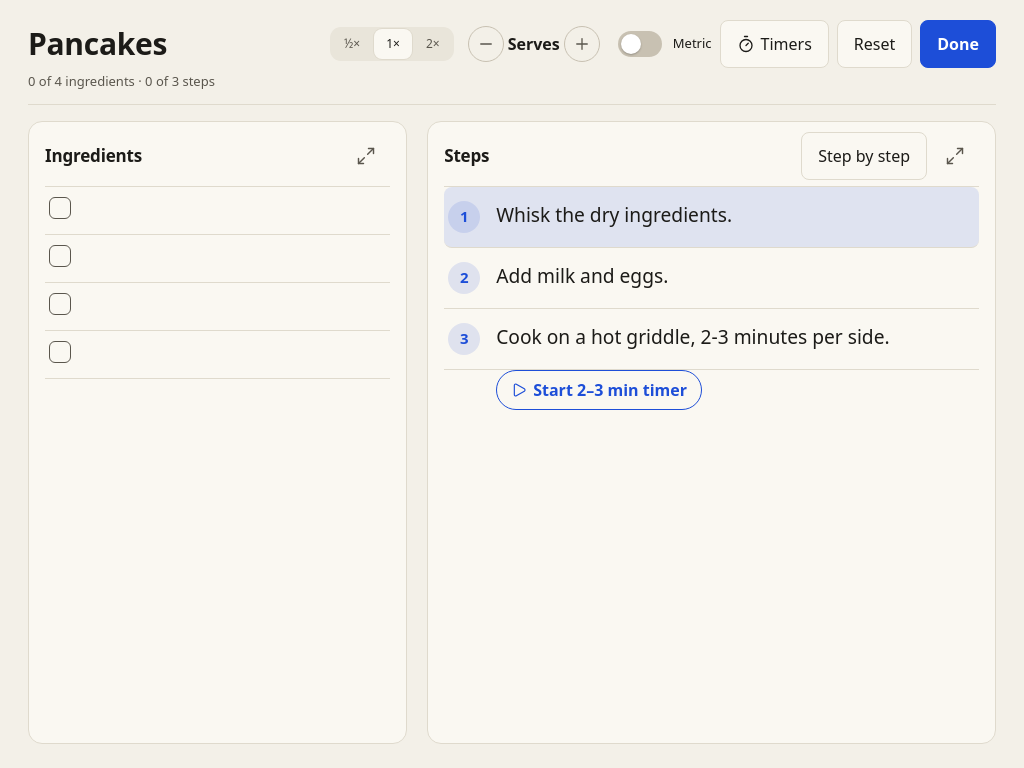
CookingView › clears its paused step timers when you finish
Click the button "Start 2–3 min timer" at (599, 390), box x1=496 y1=370 x2=702 y2=410
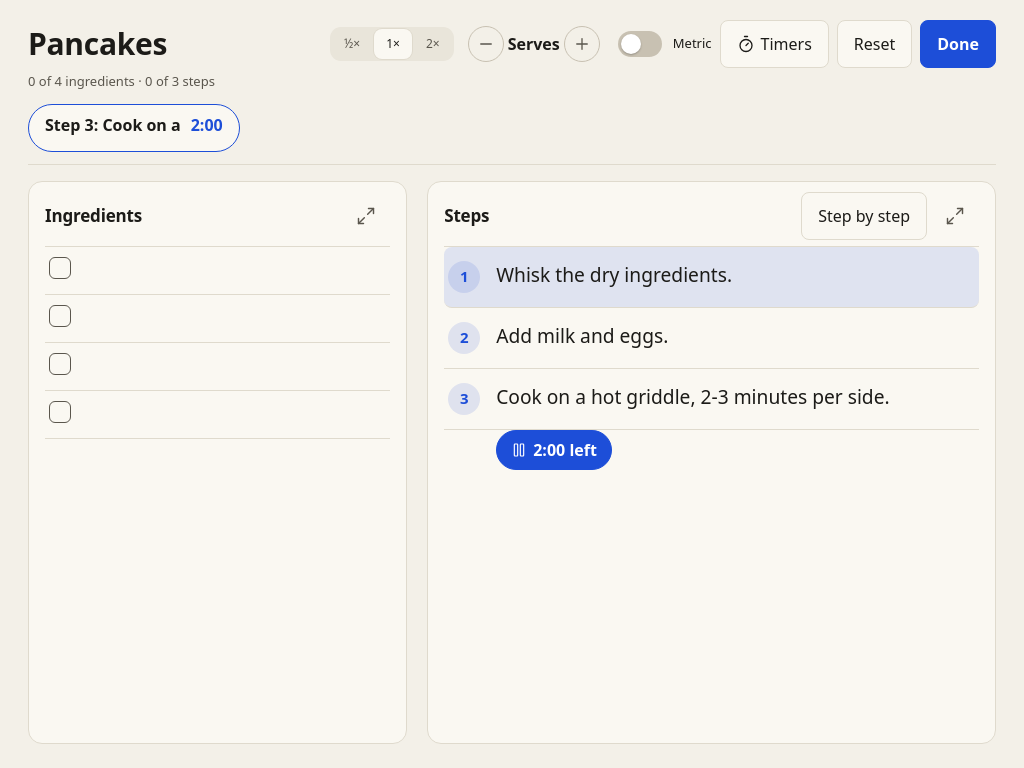
Click the button with aria-label "Pause timer" at (554, 450), box x1=496 y1=430 x2=612 y2=470
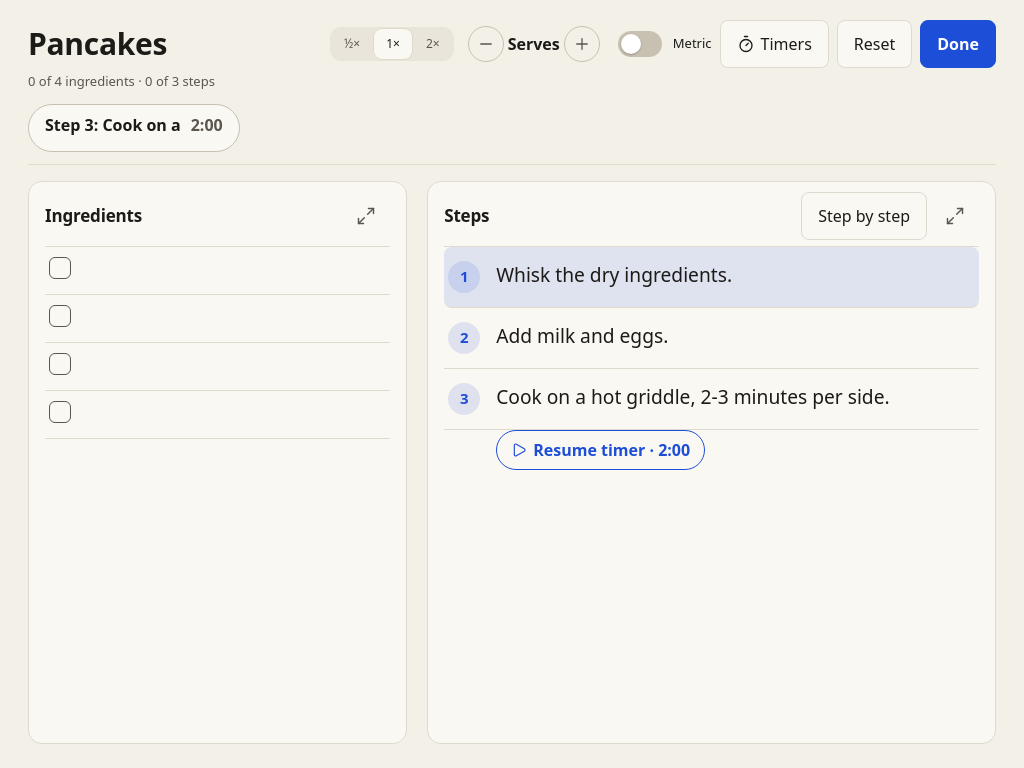
Check: the button "Step 3: Cook on a 2:00" is shown, box x1=28 y1=104 x2=240 y2=152
Click the button "Done" at (958, 44), box x1=920 y1=20 x2=996 y2=68
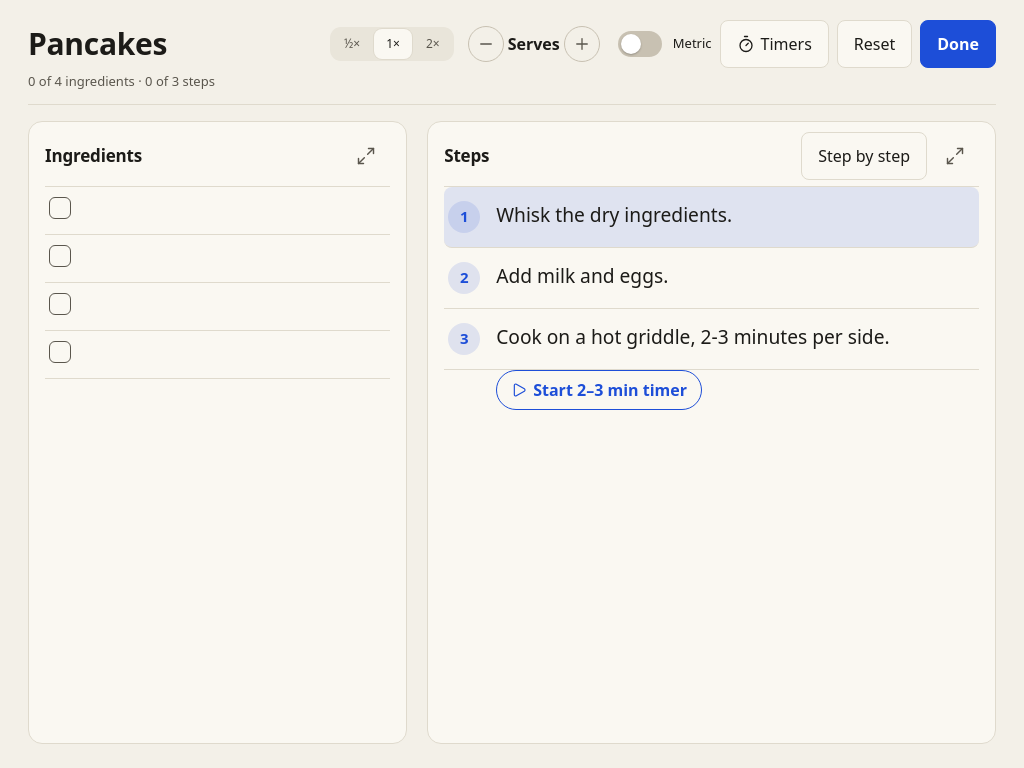
Check: the button "Step 3: Cook on a" is gone
